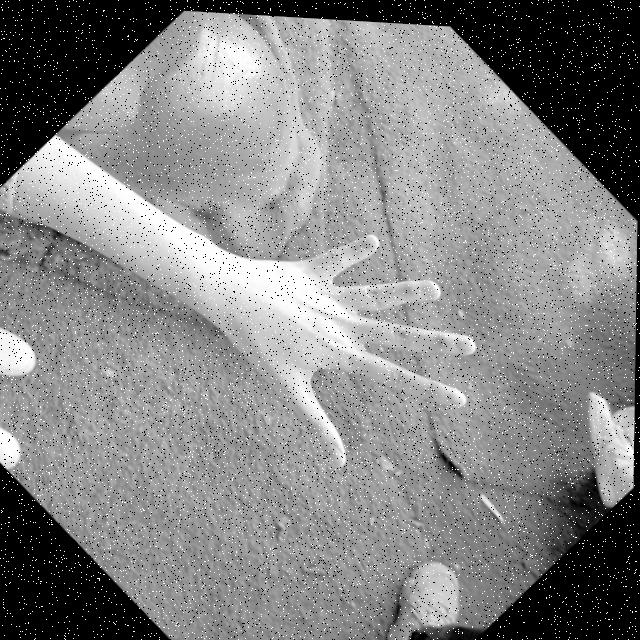hand: (189, 169, 514, 504)
